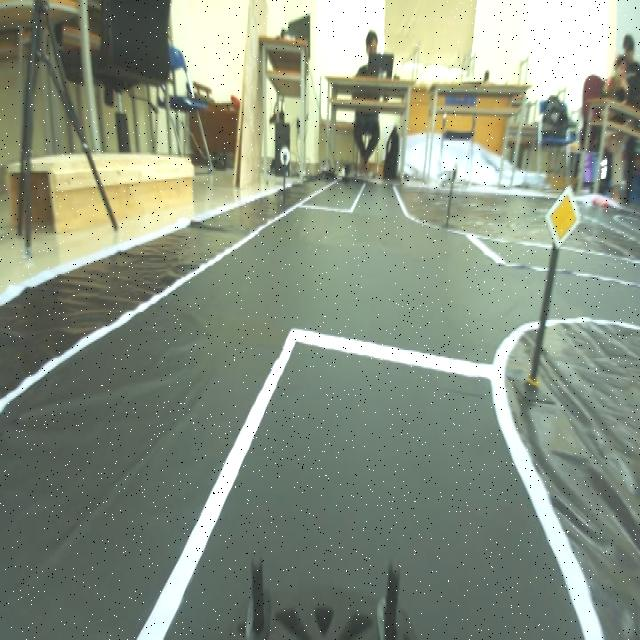priority: (540, 185, 584, 251)
